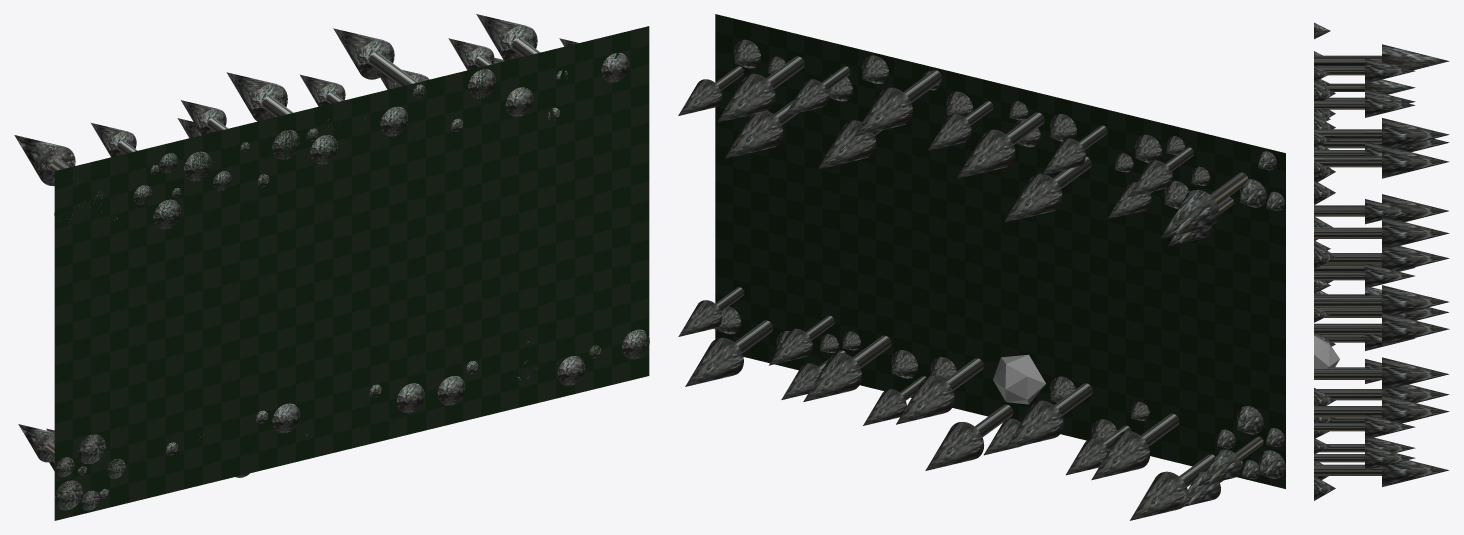
The model's file is forest12.dae.
3 views of the same model, side by side, from view 1: azimuth 30°, elevation 25°; view 2: azimuth 150°, elevation 25°; view 3: azimuth 270°, elevation 25° (orthographic). The views are drawn at different scales.
Parts seen in each view (by area): view 1: Plane.043, Cone.2608, Cone.2600, Cone.2609, Cone.2587, Cone.2580, Cone.2577, Cone.2591, Cone.2628, Cone.2606; view 2: Plane.043, Cone.2601, Cone.2598, Cone.2609, Cone.2608, Cone.2600, Cone.2627, Cone.2615, Cone.2619, Cone.2569, Cone.2587, Cone.2597 (+17 smaller); view 3: Cone.2609, Cone.2598, Cone.2601, Cone.2608, Cone.2627, Cone.2615, Cone.2600, Cone.2619, Cone.2587, Cone.2578, Cone.2569, Cone.2626 (+24 smaller).
Boxes of the visible parts, x1,y1,x2,y2 form: Plane.043: (54,26,649,520); Cone.2608: (333,28,424,97); Cone.2600: (226,72,317,141); Cone.2609: (476,14,567,83); Cone.2587: (14,135,105,202); Cone.2580: (181,100,249,151); Cone.2577: (91,123,159,174); Cone.2591: (18,424,86,475); Cone.2628: (448,38,494,70); Cone.2606: (300,74,345,106); Plane.043: (715,14,1285,488); Cone.2601: (896,358,983,424); Cone.2598: (1005,383,1092,449); Cone.2609: (717,56,804,122); Cone.2608: (854,70,941,136); Cone.2600: (956,112,1044,178); Cone.2627: (1091,413,1179,480); Cone.2615: (803,335,891,401); Cone.2619: (685,320,773,386); Cone.2569: (925,404,1013,470); Cone.2587: (1160,172,1248,238); Cone.2597: (1003,156,1091,222); Cone.2609: (1314,216,1449,250); Cone.2598: (1314,312,1449,345); Cone.2601: (1314,357,1448,390); Cone.2608: (1314,145,1449,178); Cone.2627: (1314,285,1448,315); Cone.2615: (1314,394,1449,423); Cone.2600: (1314,118,1449,148); Cone.2619: (1314,460,1448,487); Cone.2587: (1314,44,1449,70); Cone.2578: (1325,246,1449,271); Cone.2569: (1317,384,1449,402); Cone.2626: (1314,263,1414,288).
Bounding box in the file's own units: 64.07 × 16 × 37.96.
